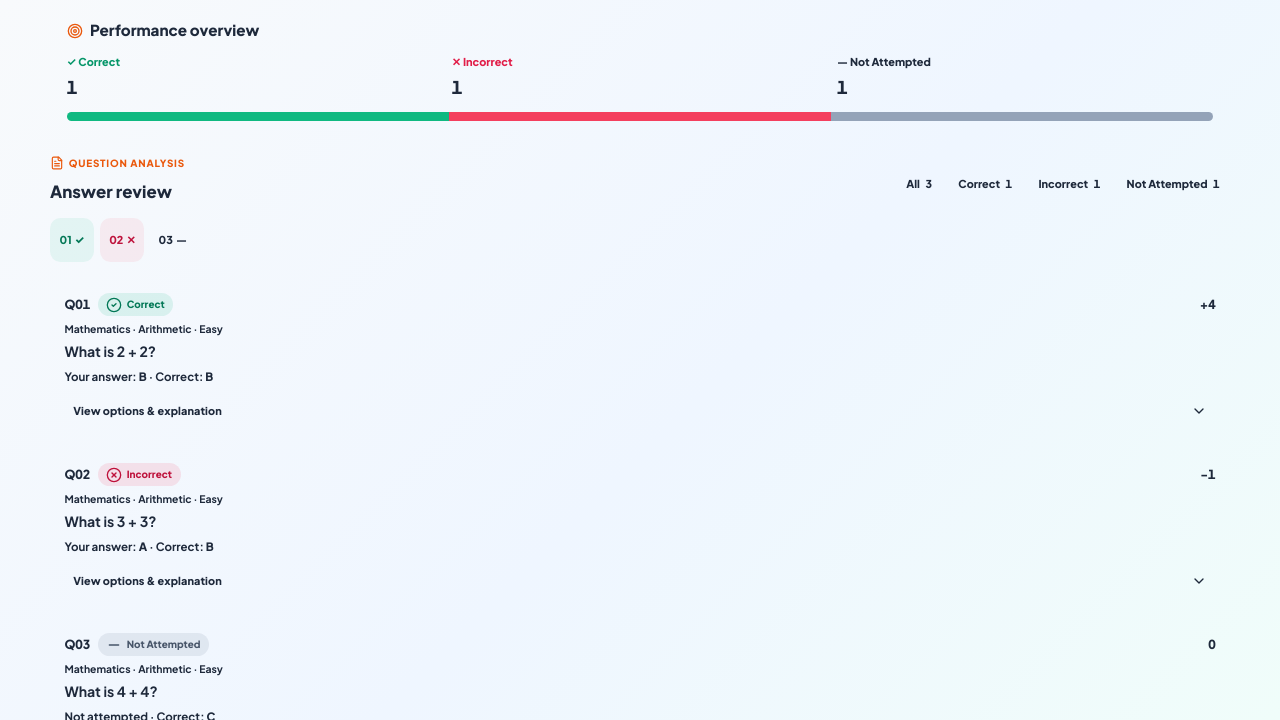
Scenario: ExamResultReport › keeps user and correct answers unchanged when question card is clicked
(page scrolled)
Click the button named "view options" at {"x": 640, "y": 360}, box [50,281,1230,440]
(page scrolled)
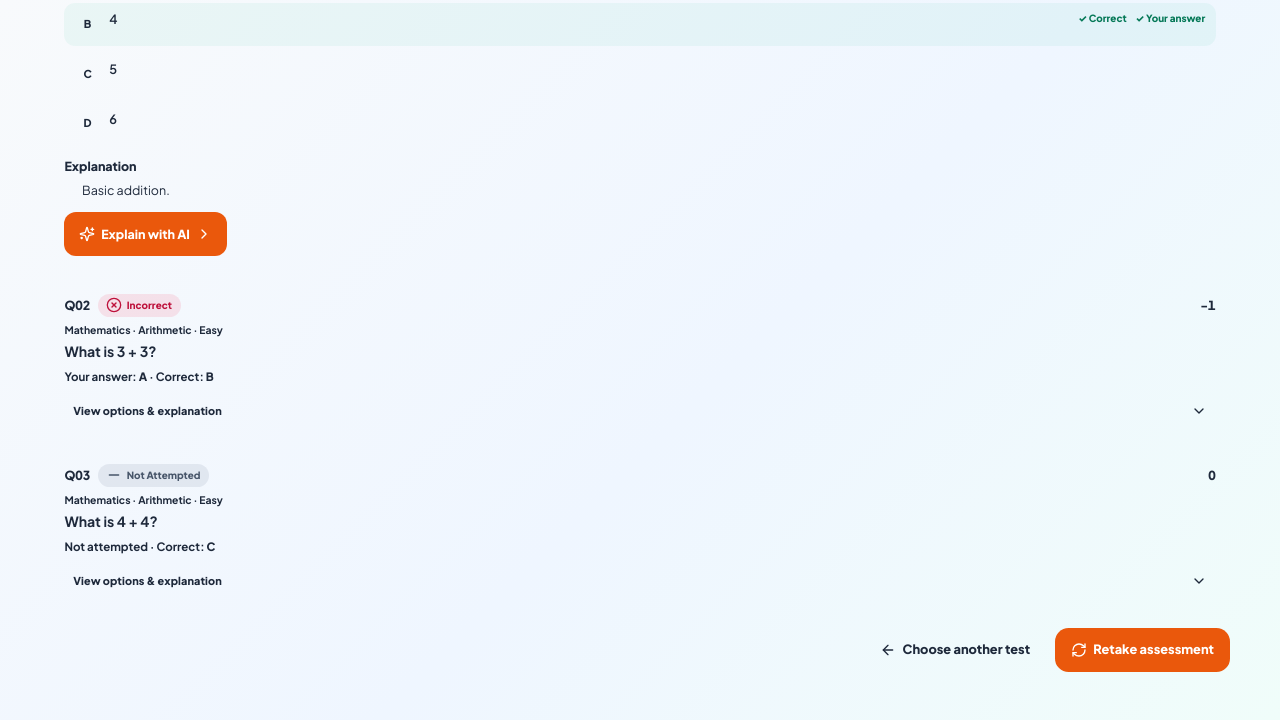
Now the text "✓ Correct" is shown, box [1078,11,1127,26]
Now the text "✓ Your answer" is shown, box [1135,11,1205,26]
Now the list item "Basic addition." is shown, box [82,182,170,198]
Click the button named "view options" at {"x": 640, "y": 361}, box [50,282,1230,440]
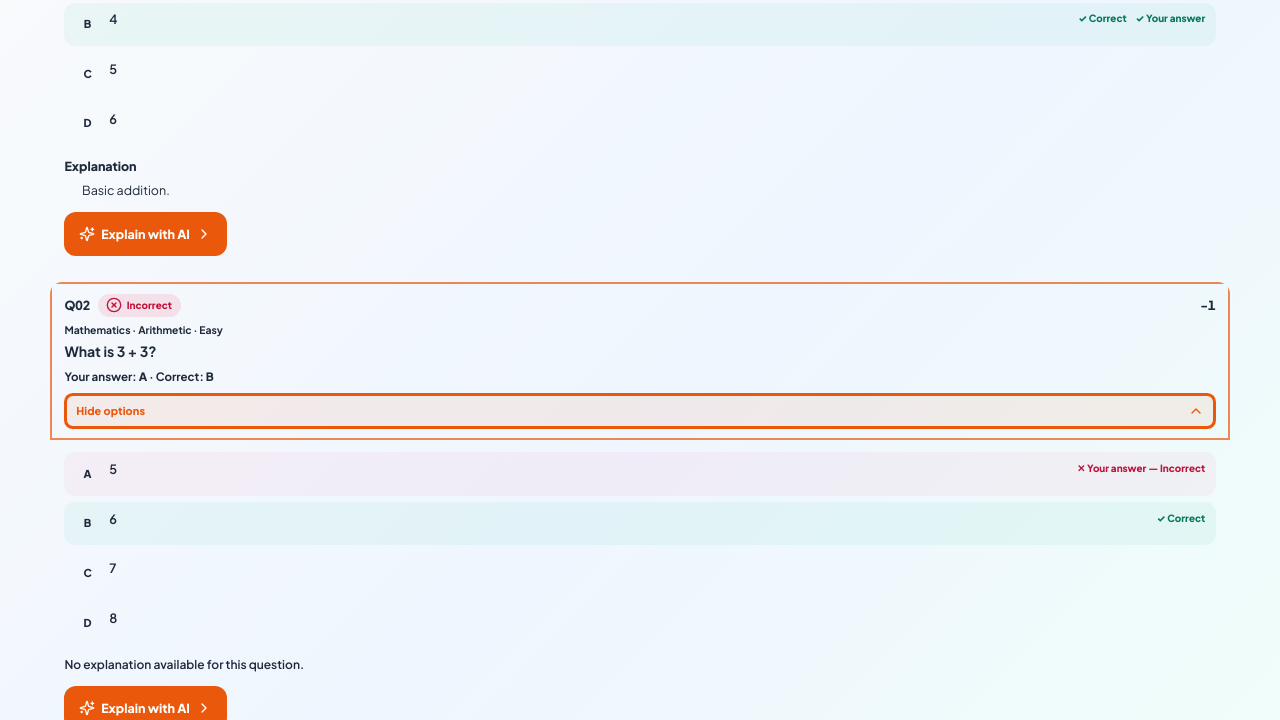
Now the text "✕ Your answer — Incorrect" is shown, box [1077,461,1205,476]
Now the text "No explanation available for this question." is shown, box [64,657,304,672]
